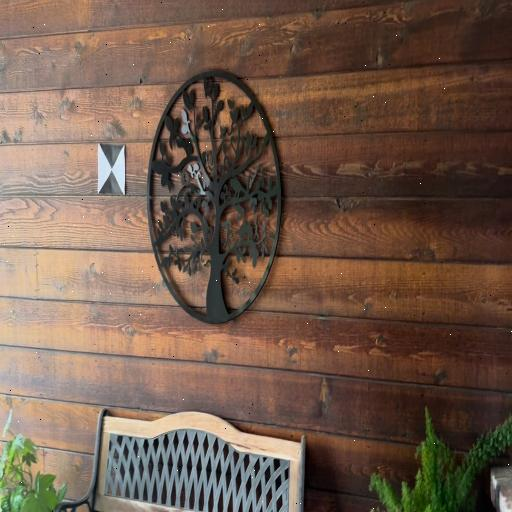target: (97, 144, 126, 195)
